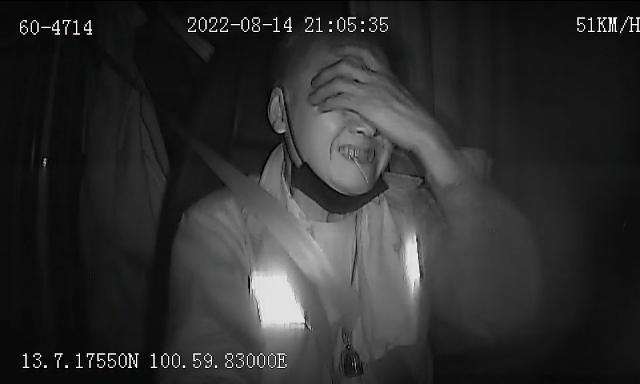Seatbelt: (129, 90, 395, 326)
